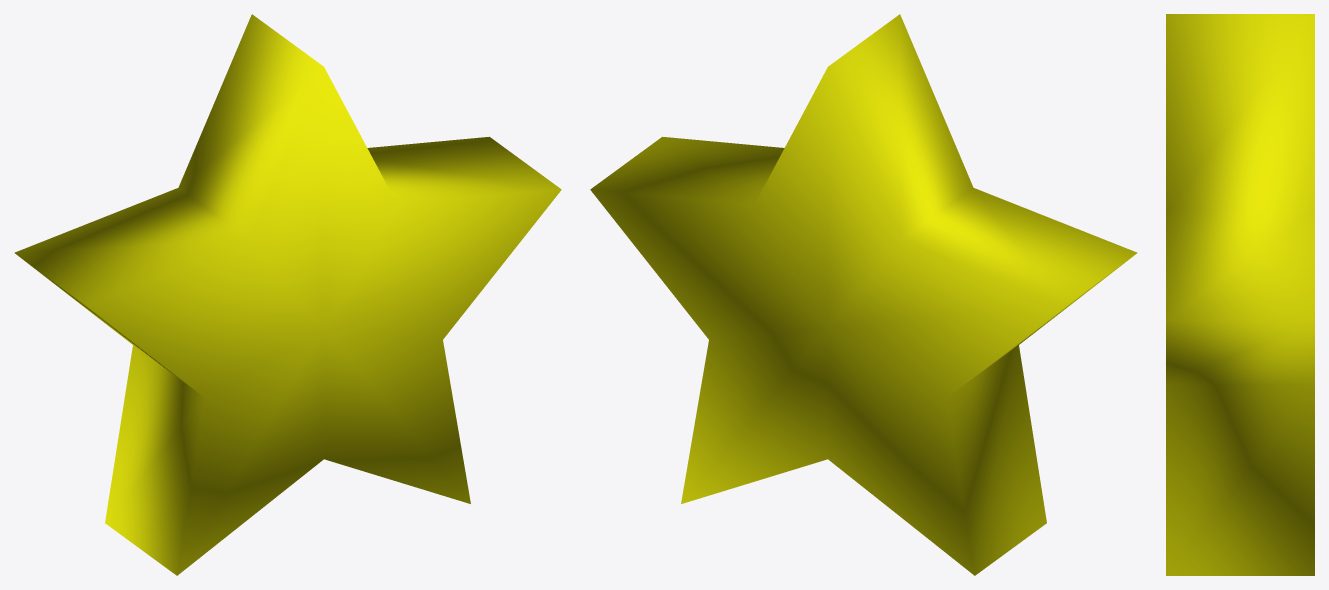
Rendered from Speed.fbx.
The picture shows the model from 3 angles, left to right: view 1: azimuth 30°, elevation 25°; view 2: azimuth 150°, elevation 25°; view 3: azimuth 270°, elevation 25°; orthographic projection. The views are drawn at different scales.
Parts seen in each view (by area): view 1: Star; view 2: Star; view 3: Star.
Part boxes in pixels (bbox=[...]): Star: bbox=[14, 14, 561, 575]; Star: bbox=[590, 14, 1137, 575]; Star: bbox=[1166, 14, 1314, 575].
Bounding box in the file's own units: 1.9 × 1.81 × 0.5.
